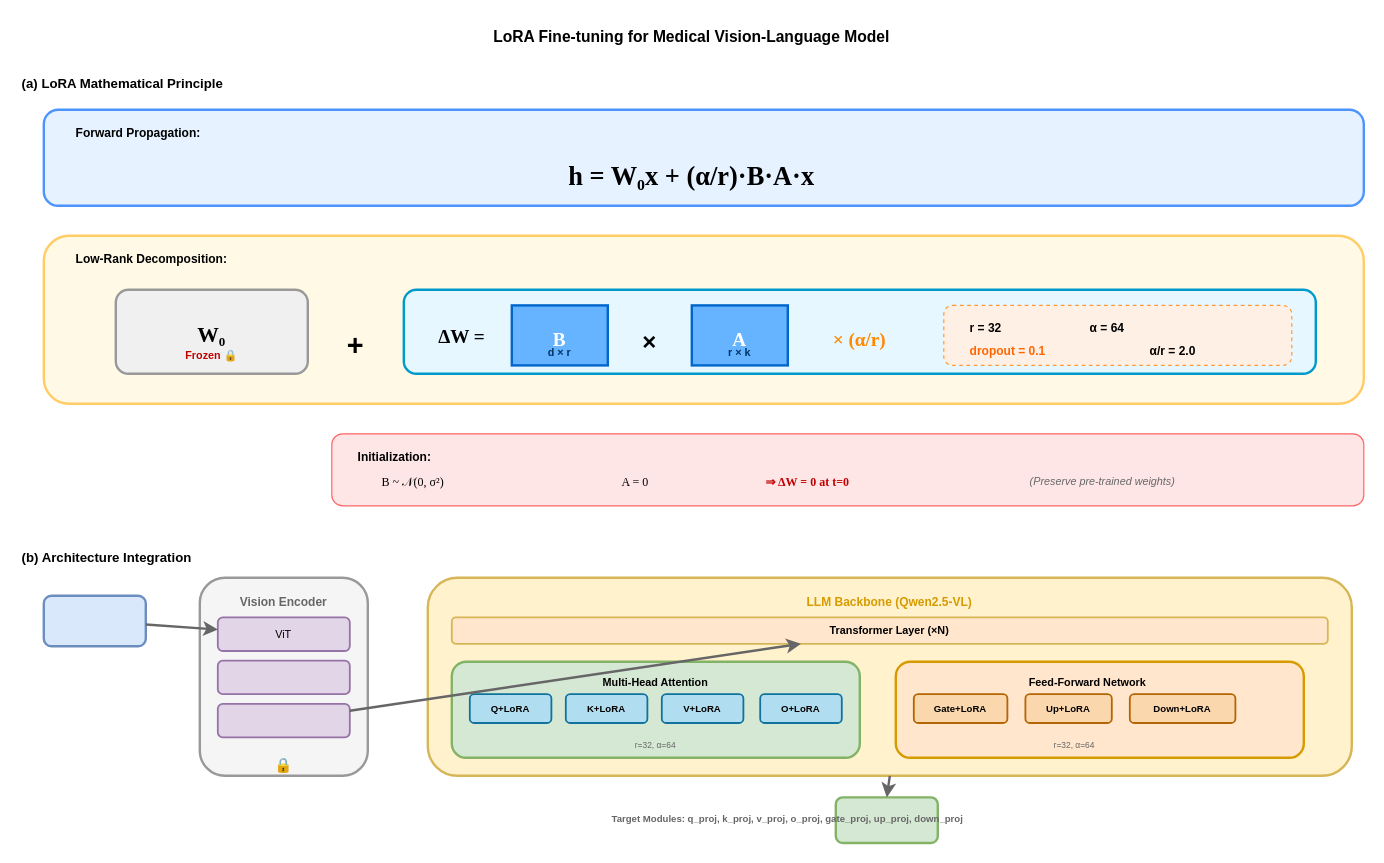
This 1384x863 diagram has some shape labels left out. The centre of each missing label's shape, as x and y in pixels:
"Medical Image" goes at (94,620).
"Medical Report" goes at (886,820).
"Patch Embed" goes at (283,677).
"Visual Tokens" goes at (283,720).
